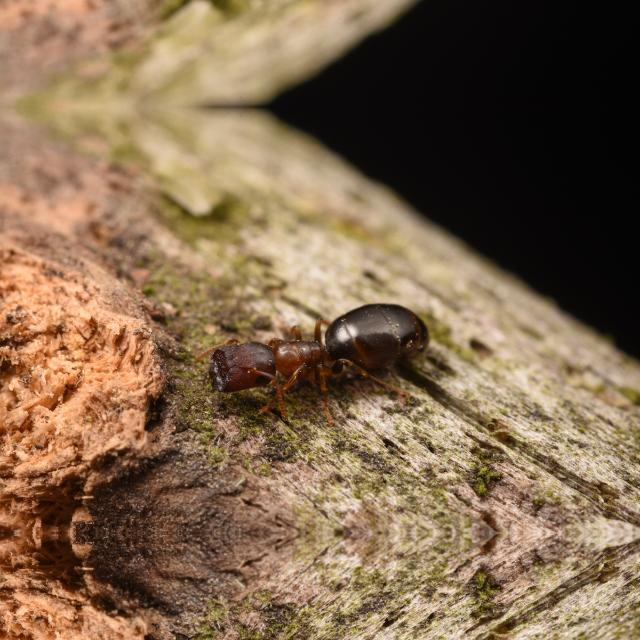Colobopsis: (184, 282, 446, 414)
